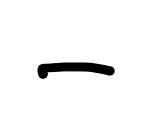minus: (37, 62, 115, 79)
